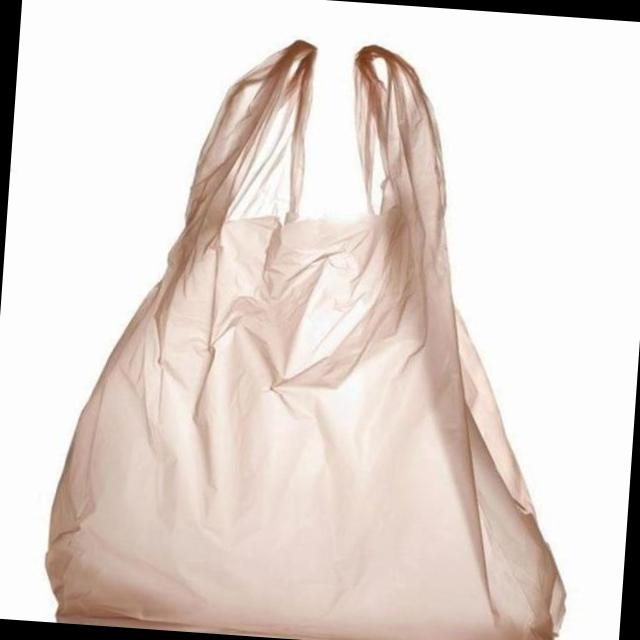KantongPlastik: (39, 21, 605, 640)
